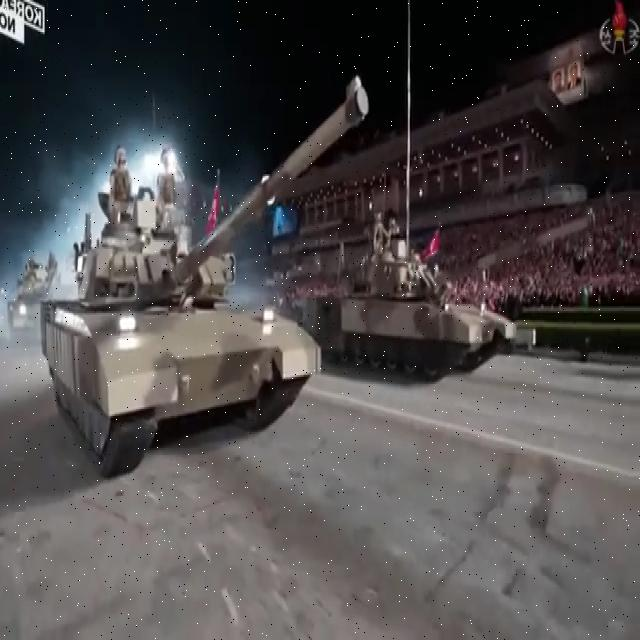north tank: (33, 69, 373, 502), (328, 212, 506, 388)
